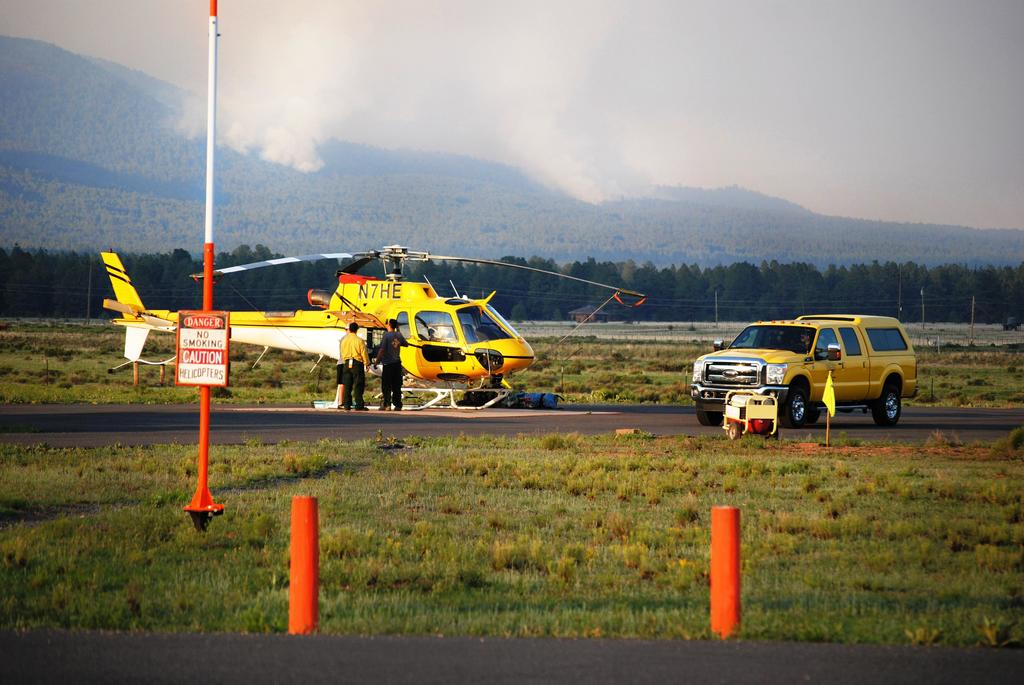Car: (695, 305, 919, 441)
